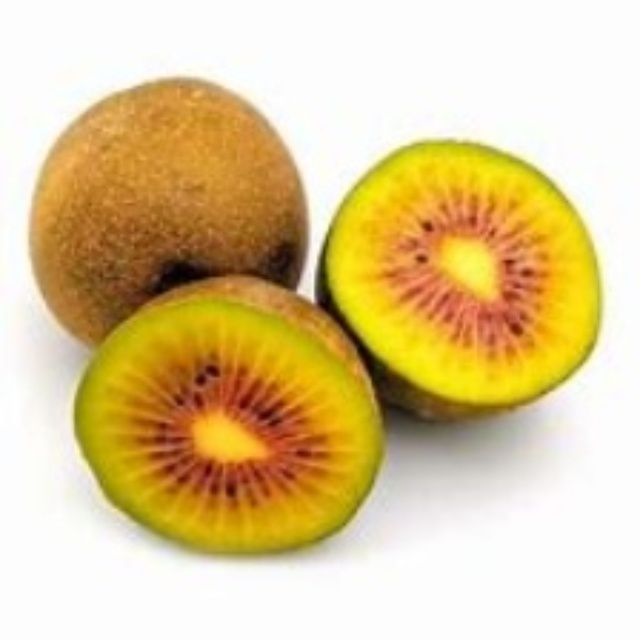kiwi: (60, 282, 400, 554), (322, 126, 597, 425), (26, 74, 309, 341)
